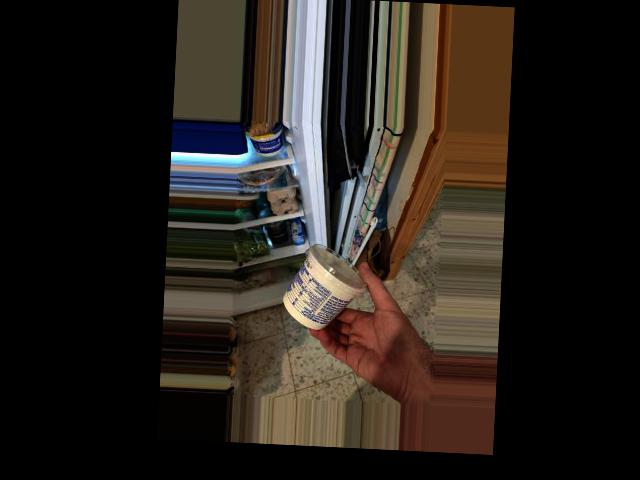cotage: (284, 237, 369, 320)
